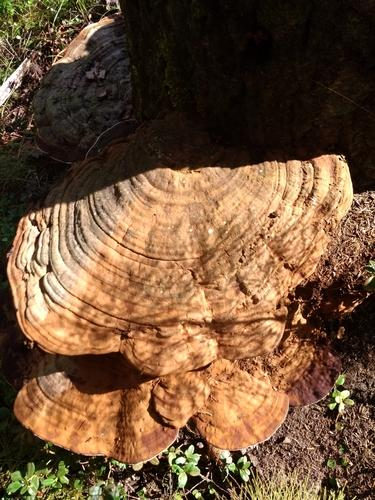Ganoderma - Fruit Body: (11, 109, 355, 371), (12, 372, 291, 460)
